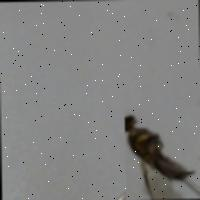Oriental-fruit-fly: (124, 106, 200, 199)
